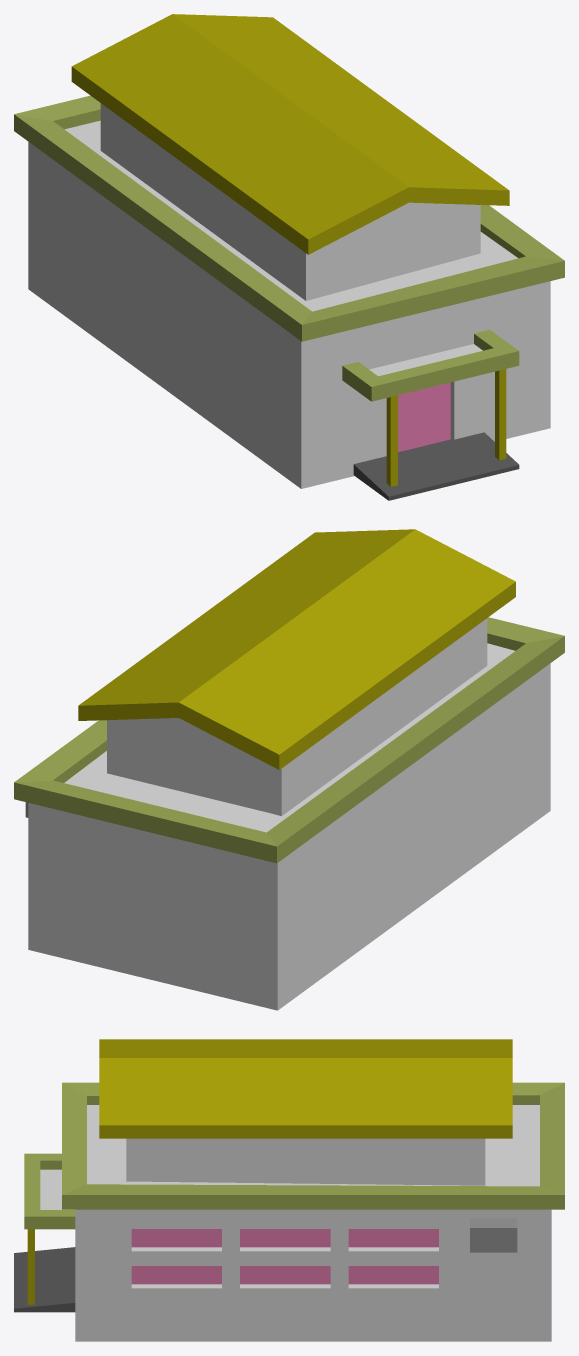
Rendered from Centro de Pesquisa.fbx.
The picture shows the model from 3 angles, top to bottom: view 1: azimuth 30°, elevation 25°; view 2: azimuth 150°, elevation 25°; view 3: azimuth 270°, elevation 25°; orthographic projection. The views are drawn at different scales.
Visible parts, largest first — view 1: Centro de Pesquisa; view 2: Centro de Pesquisa; view 3: Centro de Pesquisa.
Boxes of the visible parts, x1,y1,x2,y2 form: Centro de Pesquisa: [14, 14, 564, 500]; Centro de Pesquisa: [14, 529, 564, 1010]; Centro de Pesquisa: [14, 1039, 564, 1341].
Bounding box in the file's own units: 39.13 × 35.18 × 76.74.
